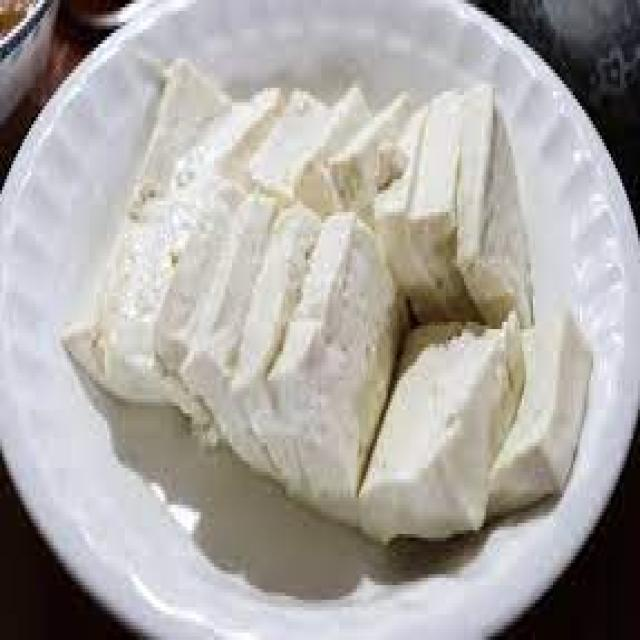tofu: (124, 54, 578, 570), (366, 293, 504, 520)
